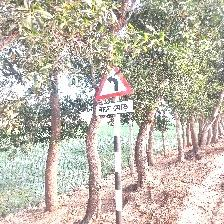Right-turn: (95, 67, 134, 117)
